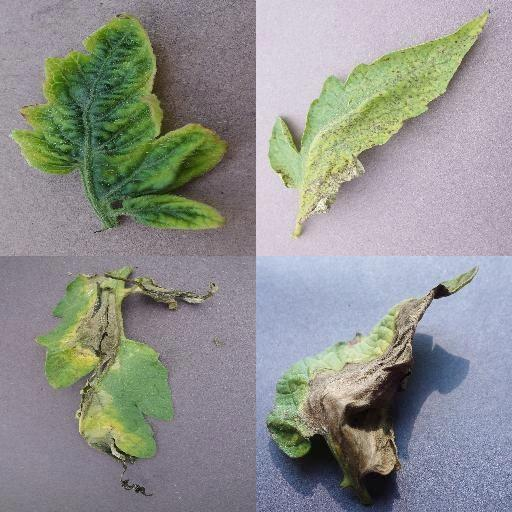Late Blight: (266, 265, 478, 475), (36, 264, 218, 498)
Septoria: (270, 10, 492, 218)
Yellow Leaf Curl Virus: (13, 14, 228, 232)
